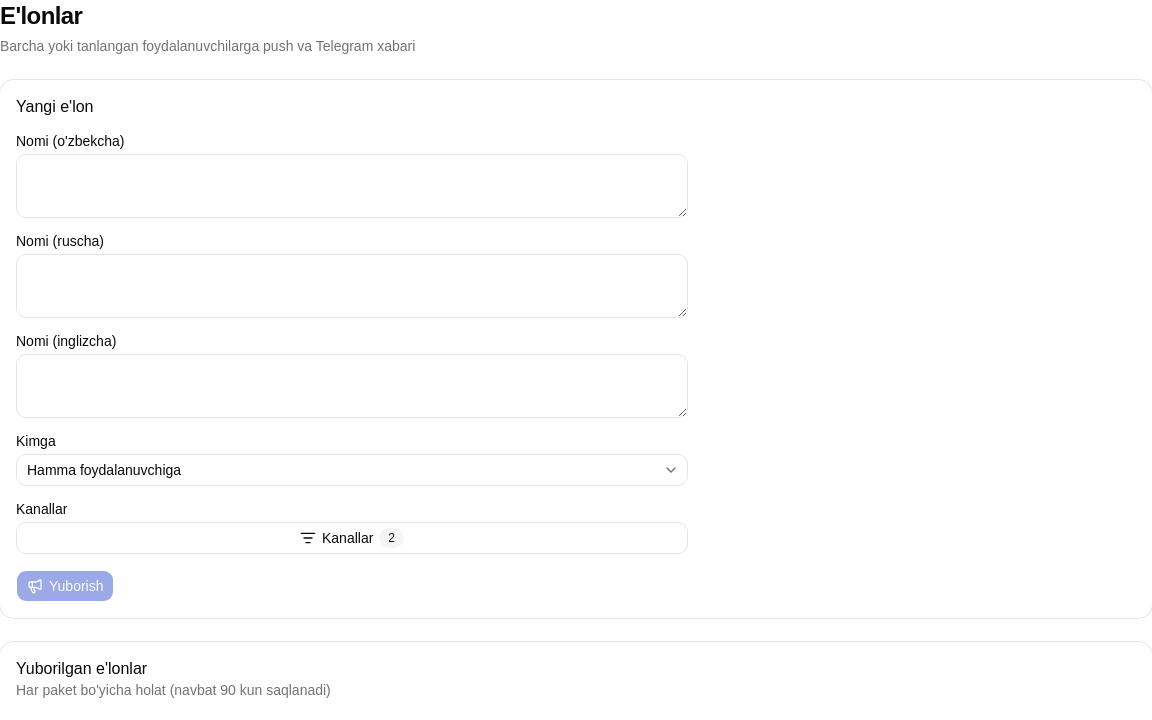
Test: PlatformAnnouncementsPage (E26-T03) › tasdiqdan keyin navbatga qo‘yiladi
Type "Salom" into the text box labelled "Nomi (o'zbekcha)" at (352, 186), box [16,154,688,218]
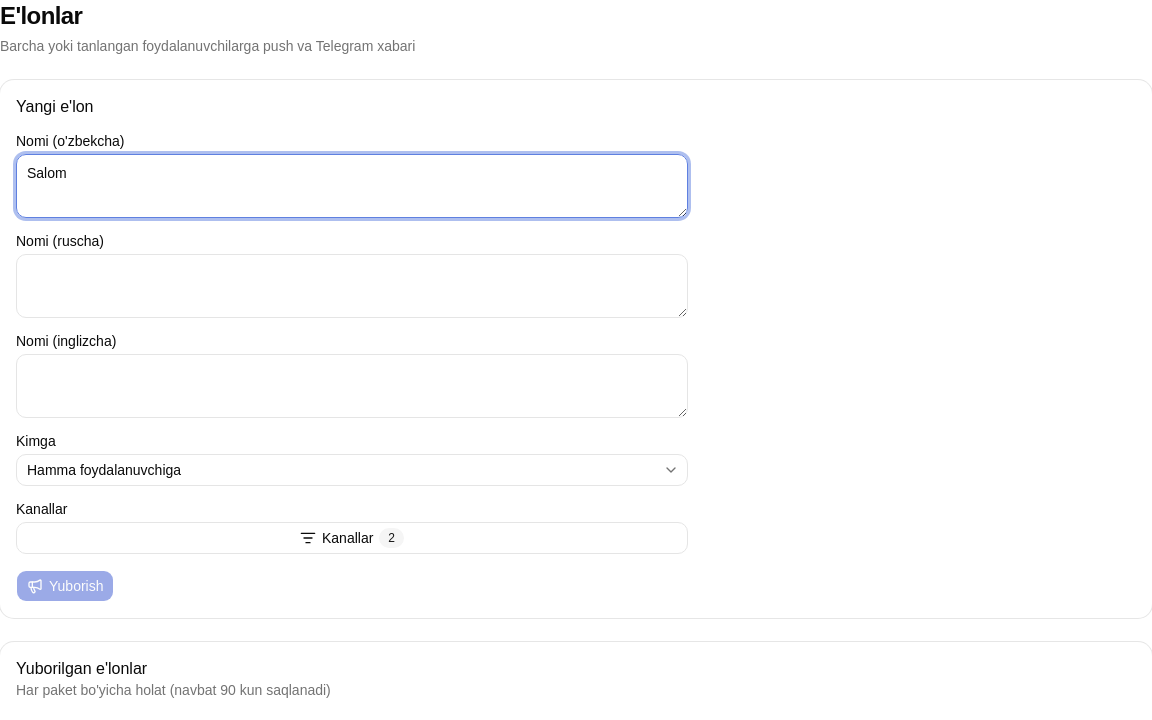
Type "Привет" into the text box labelled "Nomi (ruscha)" at (352, 286), box [16,254,688,318]
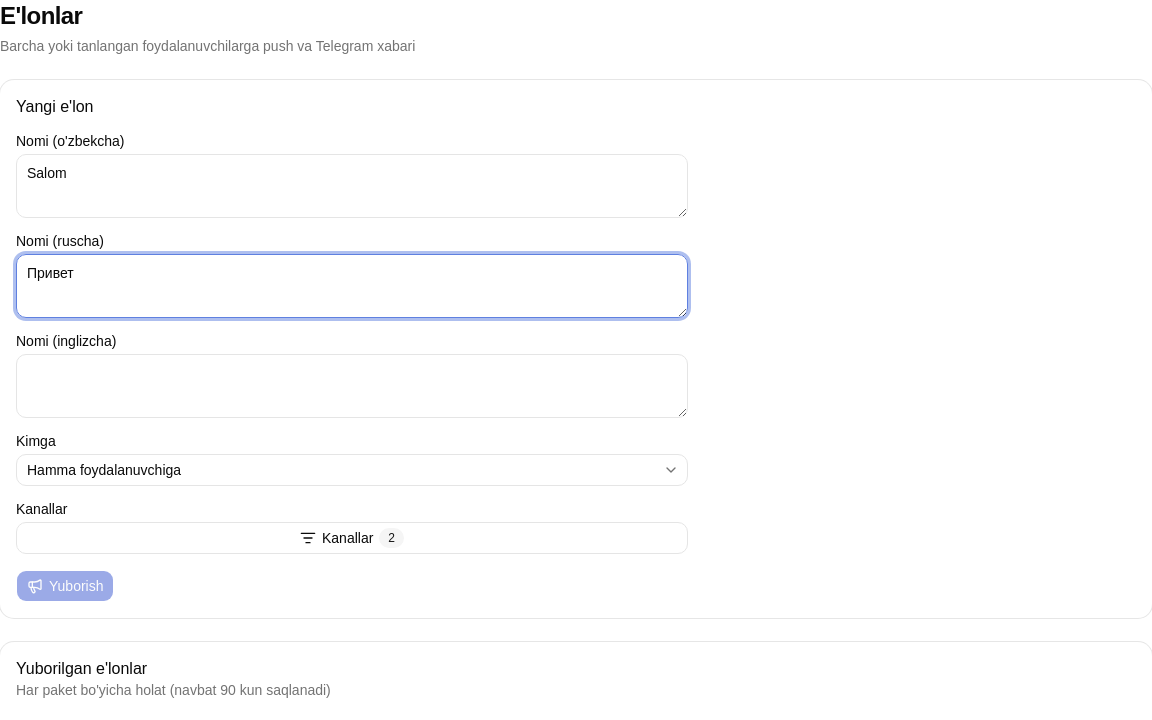
Type "Hello" into the text box labelled "Nomi (inglizcha)" at (352, 386), box [16,354,688,418]
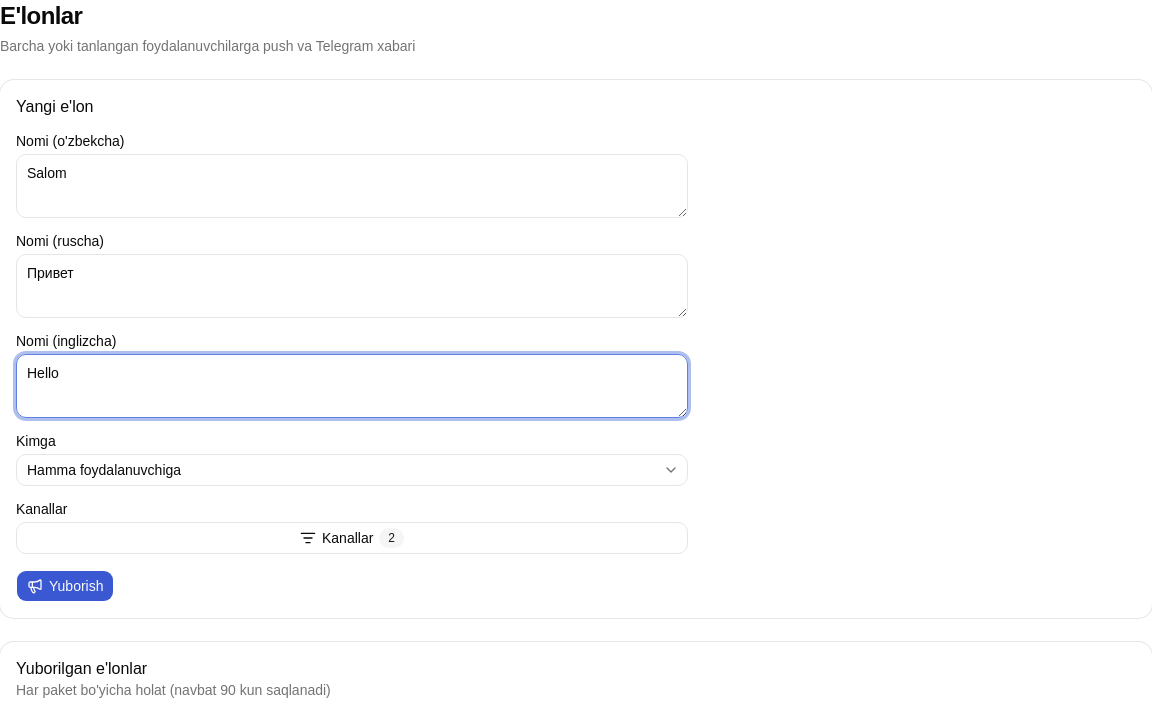
Click the button "Yuborish" at (65, 586), box [16,570,114,602]
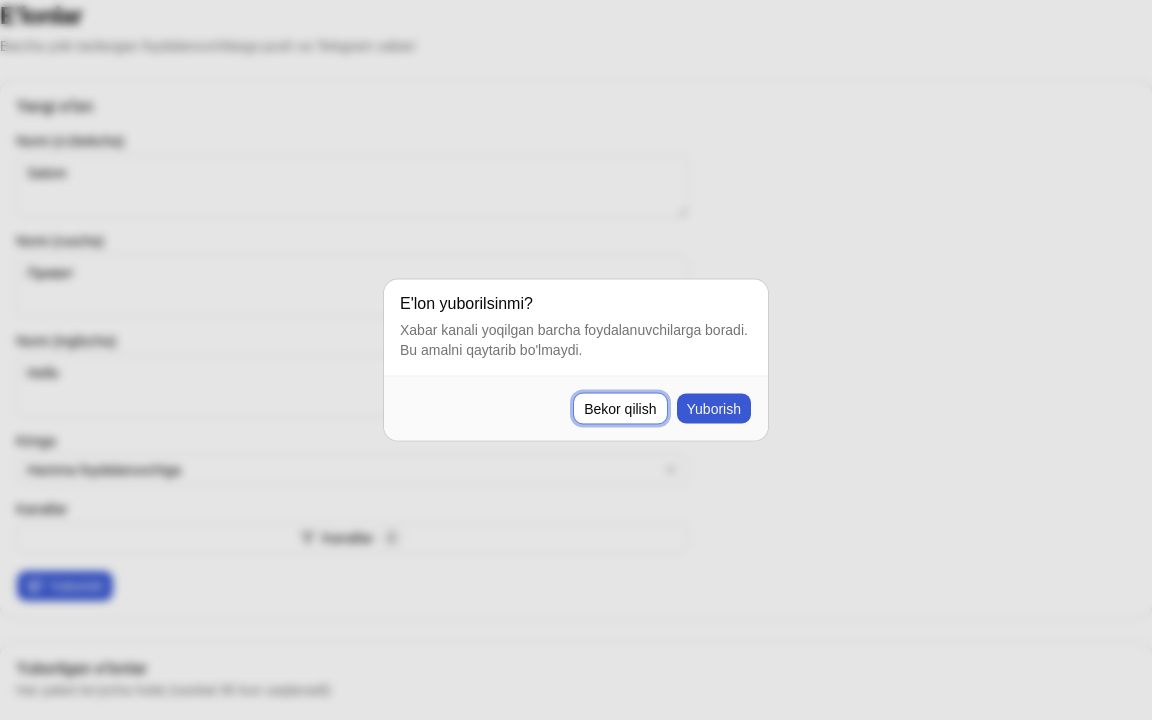
Click the button "Yuborish" at (714, 408), box [676,392,752,424]
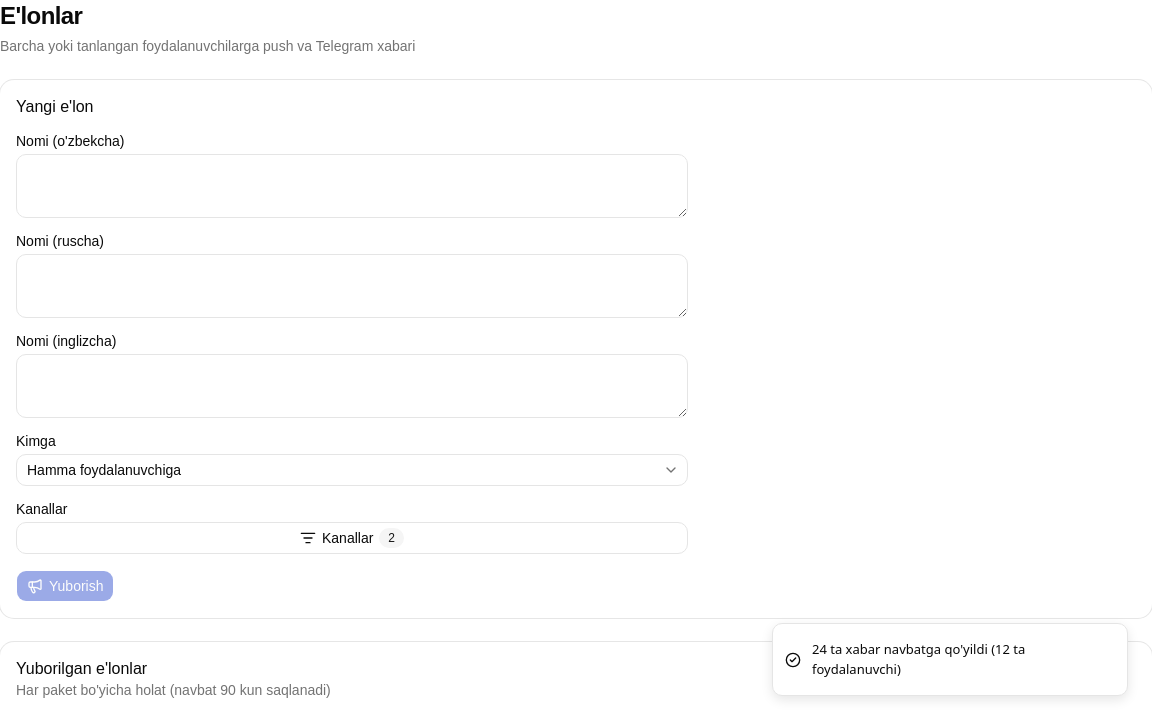
Result: the text "24 ta xabar navbatga qo'yildi (12 ta foydalanuvchi)" is shown at [812,640,1025,678]
